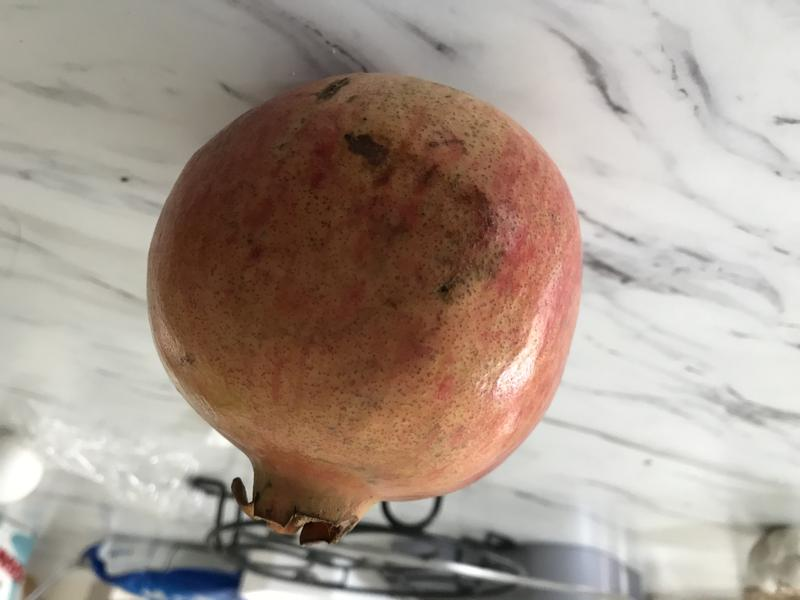pomegranate: (136, 65, 597, 562)
